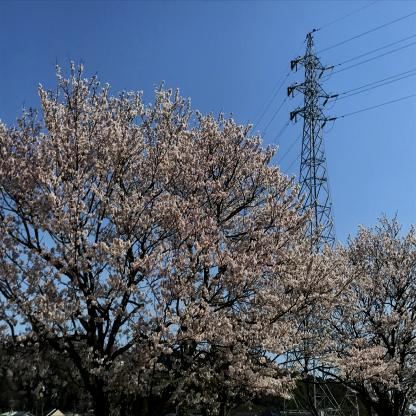Someiyoshino: (3, 69, 292, 413), (298, 211, 416, 389)
